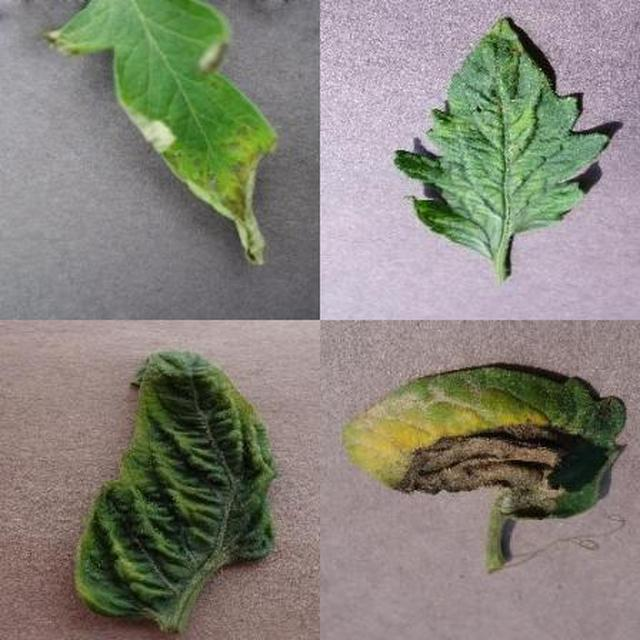Late Blight Leaf: (233, 191, 640, 640)
